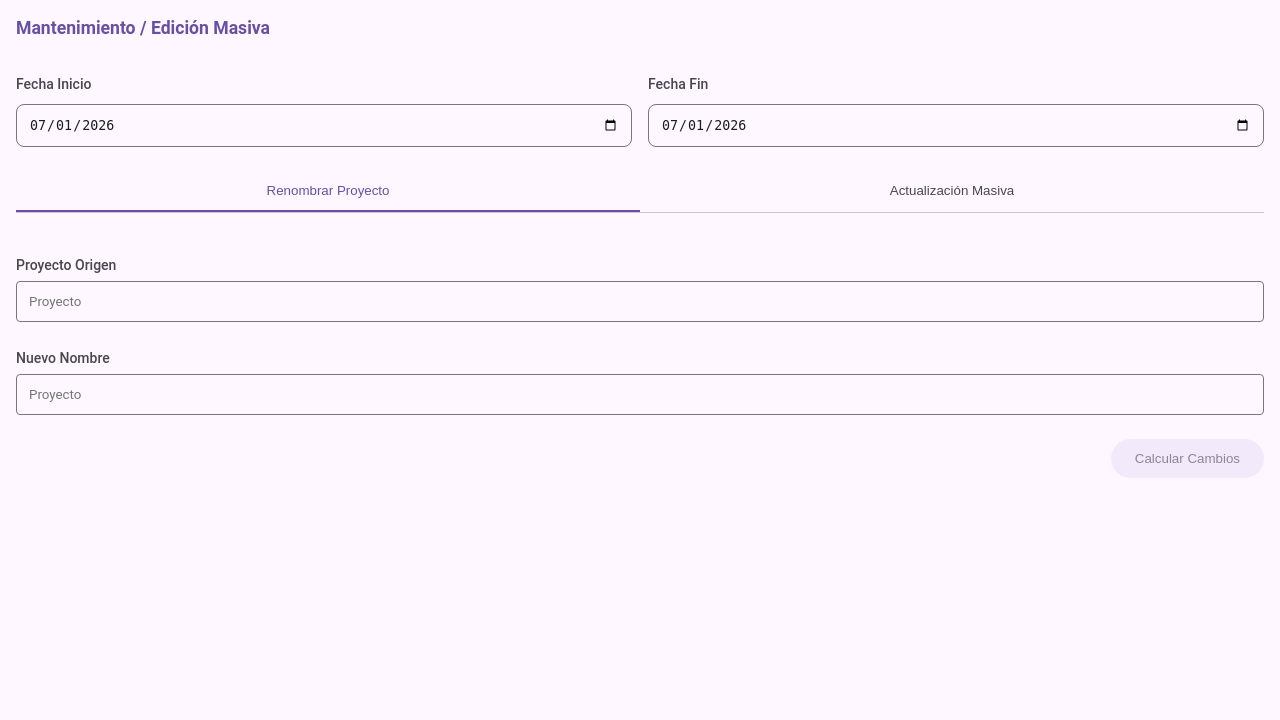
Test: BulkEdit.svelte › should calculate affected tasks count
Note: Autocomplete uses input internally
Type "Old" into the field labelled "Proyecto Origen" at (640, 302), box [16,281,1264,322]
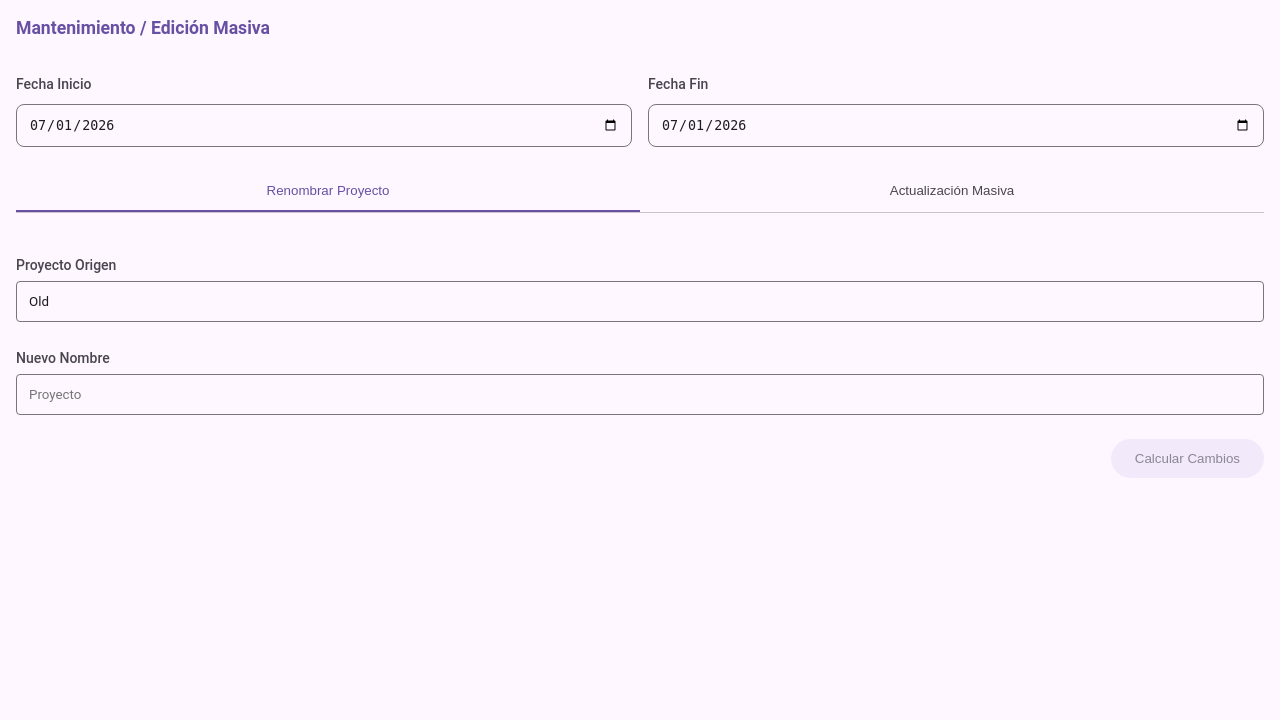
Type "New" into the field labelled "Nuevo Nombre" at (640, 395), box [16,374,1264,415]
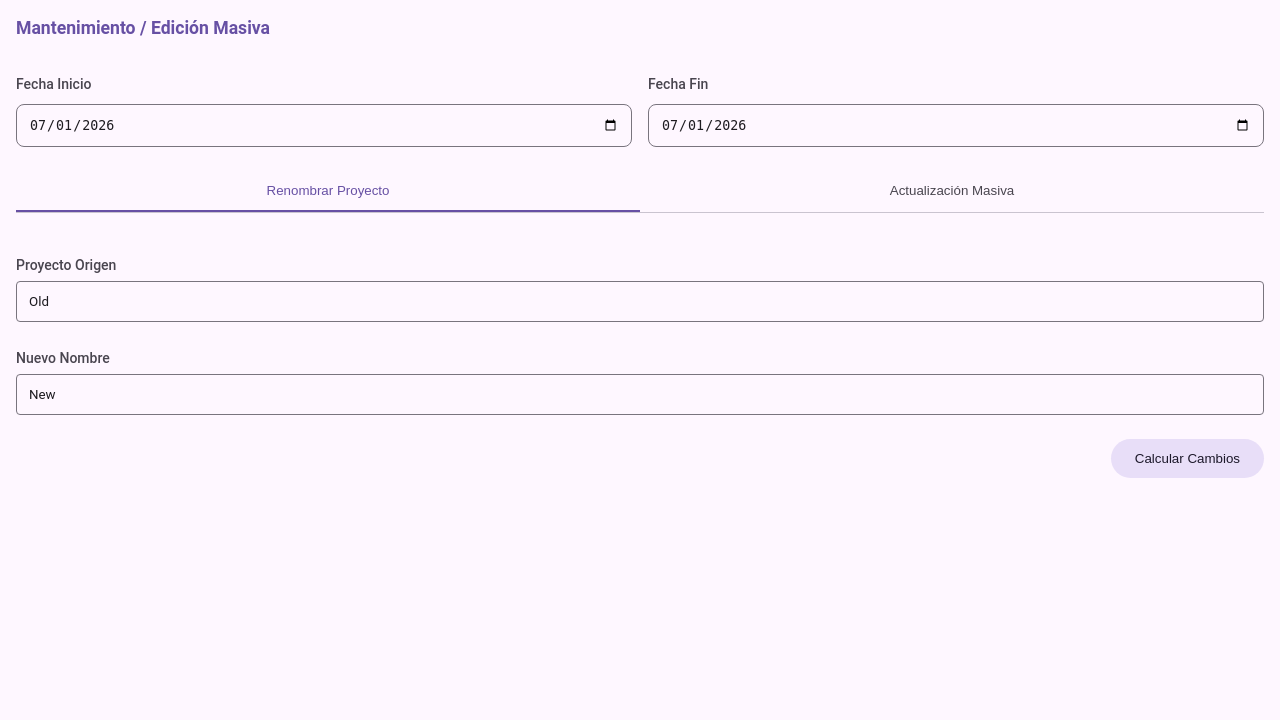
Click the button "Calcular Cambios" at (1187, 459), box [1111,439,1264,478]
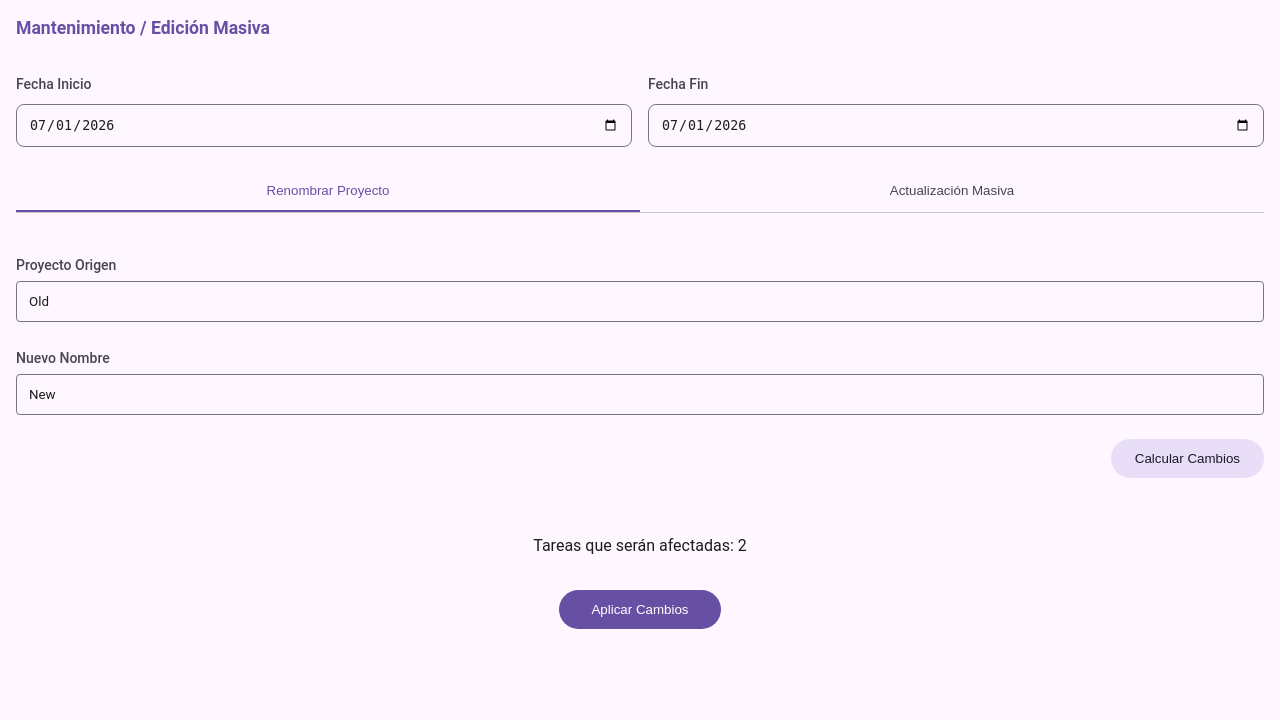
Expected: the text "Tareas que serán afectadas: 2" is shown, [533,534,747,558]
